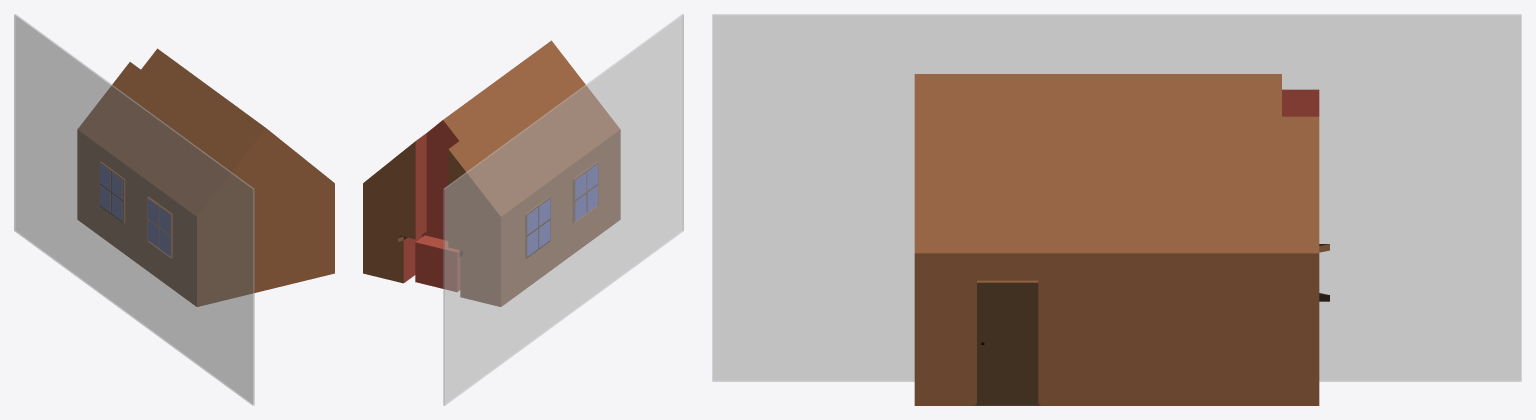
Rendered from shelter_outer.glb.
3 renders of one model, left to right at view 1: azimuth 30°, elevation 25°; view 2: azimuth 150°, elevation 25°; view 3: azimuth 270°, elevation 25°, orthographic. The views are drawn at different scales.
Visible parts, largest first — view 1: WindowOccluder, MainMesh; view 2: WindowOccluder, MainMesh; view 3: WindowOccluder, MainMesh.
Boxes of the visible parts, bbox=[...] form: WindowOccluder: bbox=[14, 14, 254, 405]; MainMesh: bbox=[77, 48, 334, 306]; WindowOccluder: bbox=[443, 14, 683, 405]; MainMesh: bbox=[363, 40, 620, 306]; WindowOccluder: bbox=[712, 14, 1521, 381]; MainMesh: bbox=[914, 74, 1329, 405].
Size of the model in its own units: 4.17 by 6 by 12.
